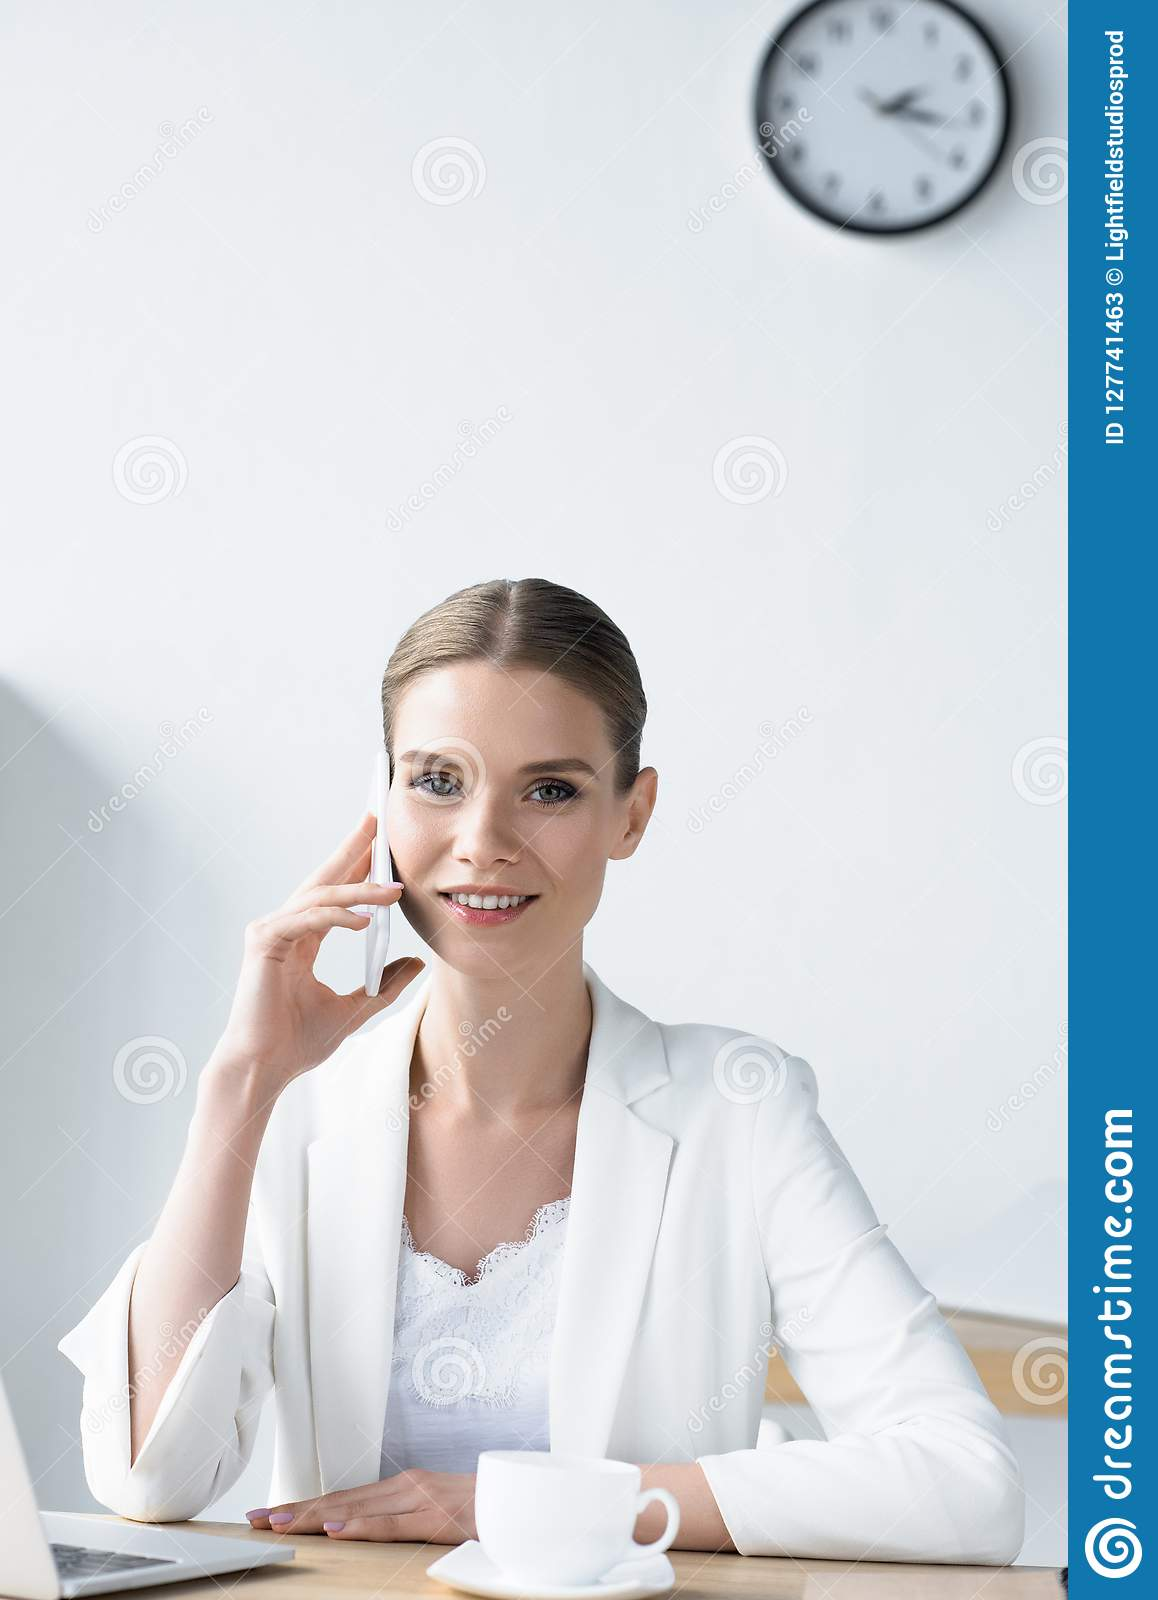phone: (363, 748, 393, 1002)
talk: (198, 728, 616, 1099)
